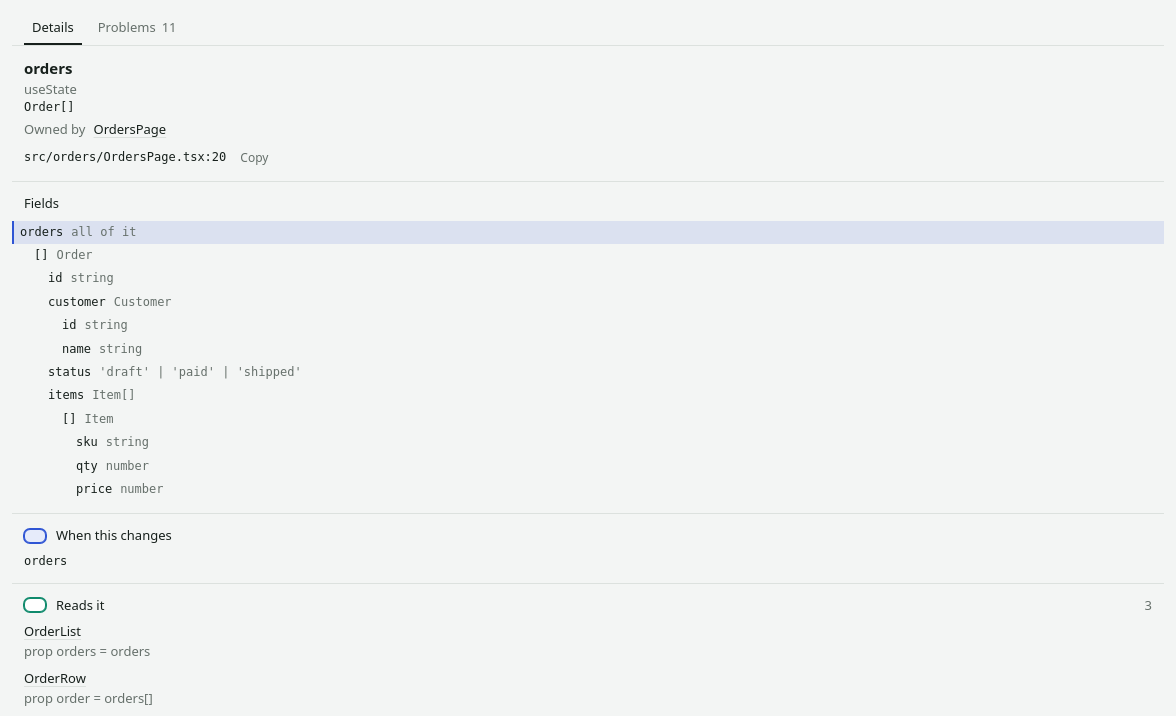
Inspector, Details tab › narrows the impact when a field is picked
The width and height of the screenshot is (1176, 716).
Click the button "status 'draft' | 'paid' | 'shipped'" at (70, 372), box [12,361,1164,384]
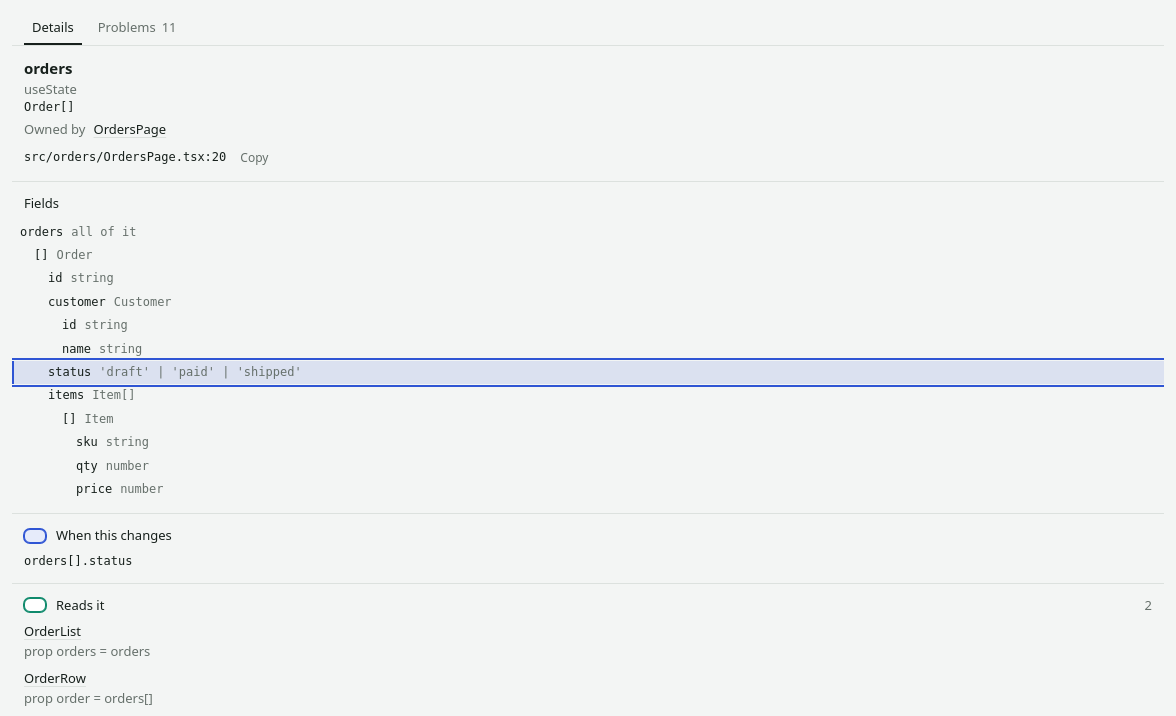
Expected: the text "orders[].status" is shown, [24,554,132,568]
